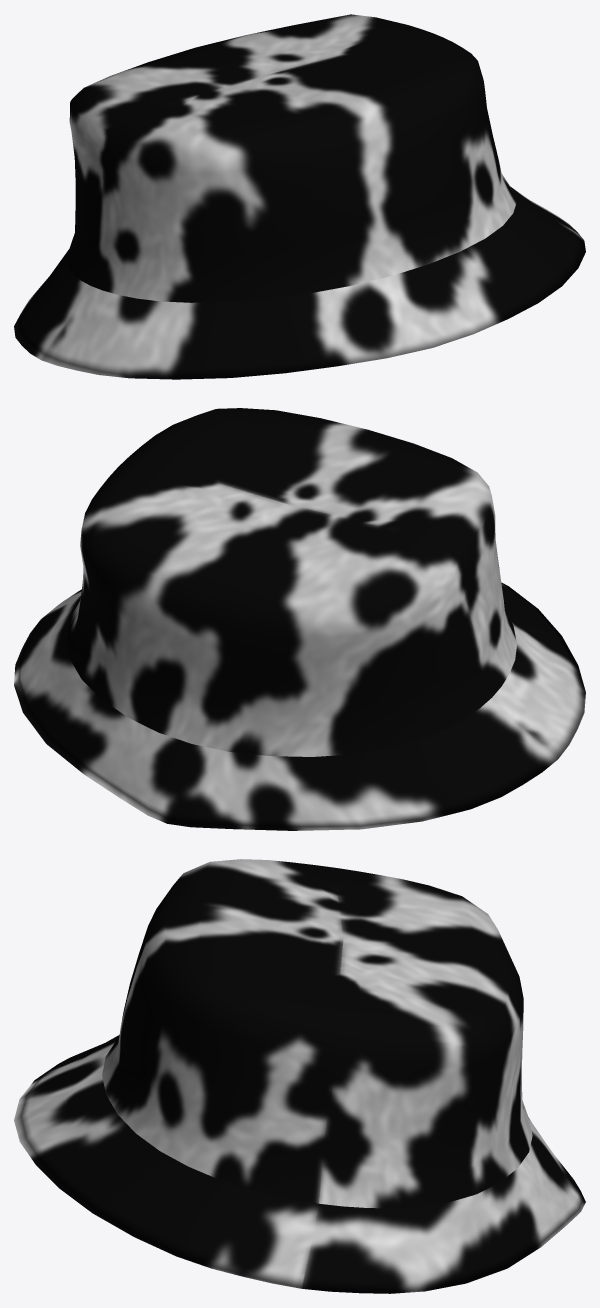
Rendered from Cow_Fur_Hat.glb.
3 renders of one model, top to bottom at view 1: azimuth 30°, elevation 25°; view 2: azimuth 150°, elevation 25°; view 3: azimuth 270°, elevation 25°, orthographic. The views are drawn at different scales.
Visible parts, largest first — view 1: Cow_Fur_Hat; view 2: Cow_Fur_Hat; view 3: Cow_Fur_Hat.
Part boxes in pixels (box(x1,y1,x2,y2)): Cow_Fur_Hat: box(14, 14, 585, 379); Cow_Fur_Hat: box(14, 408, 585, 830); Cow_Fur_Hat: box(14, 859, 585, 1293).
Size of the model in its own units: 1.39 by 0.6662 by 1.24.
1 material, 1 textured.
